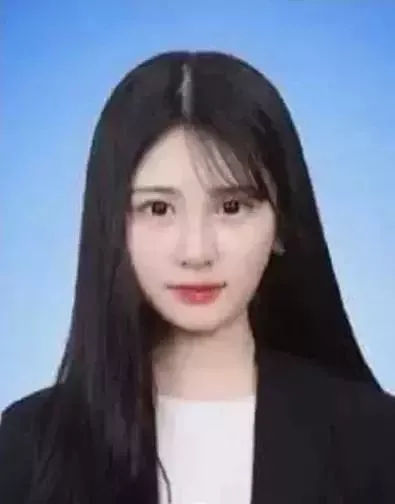unmask: (126, 143, 272, 322)
